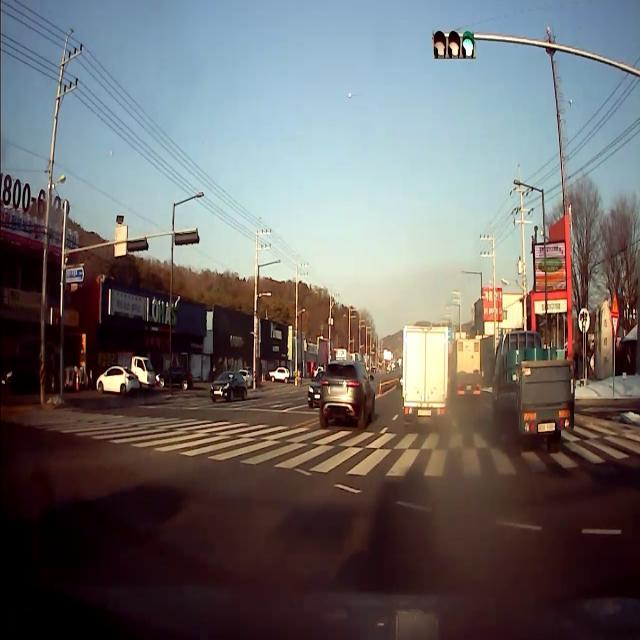Green Light: (459, 30, 477, 61)
